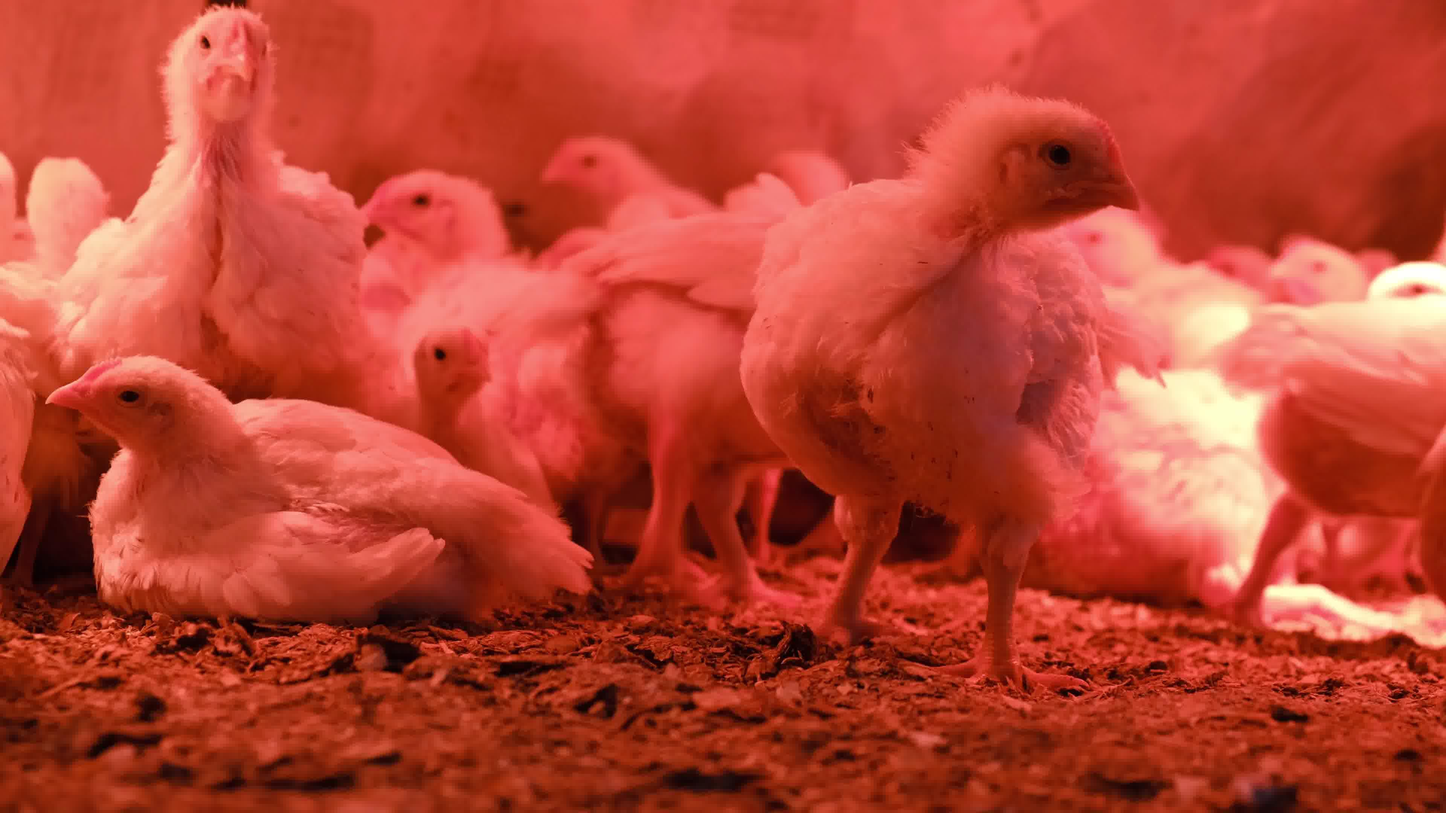AbNormal: (44, 349, 600, 620), (1021, 379, 1300, 619), (379, 318, 578, 599)
Normal: (737, 83, 1147, 703), (540, 194, 848, 613), (60, 1, 367, 411), (1227, 286, 1444, 643), (369, 168, 513, 312), (545, 132, 722, 226), (28, 151, 111, 276), (1057, 211, 1158, 300), (1264, 238, 1369, 309)
